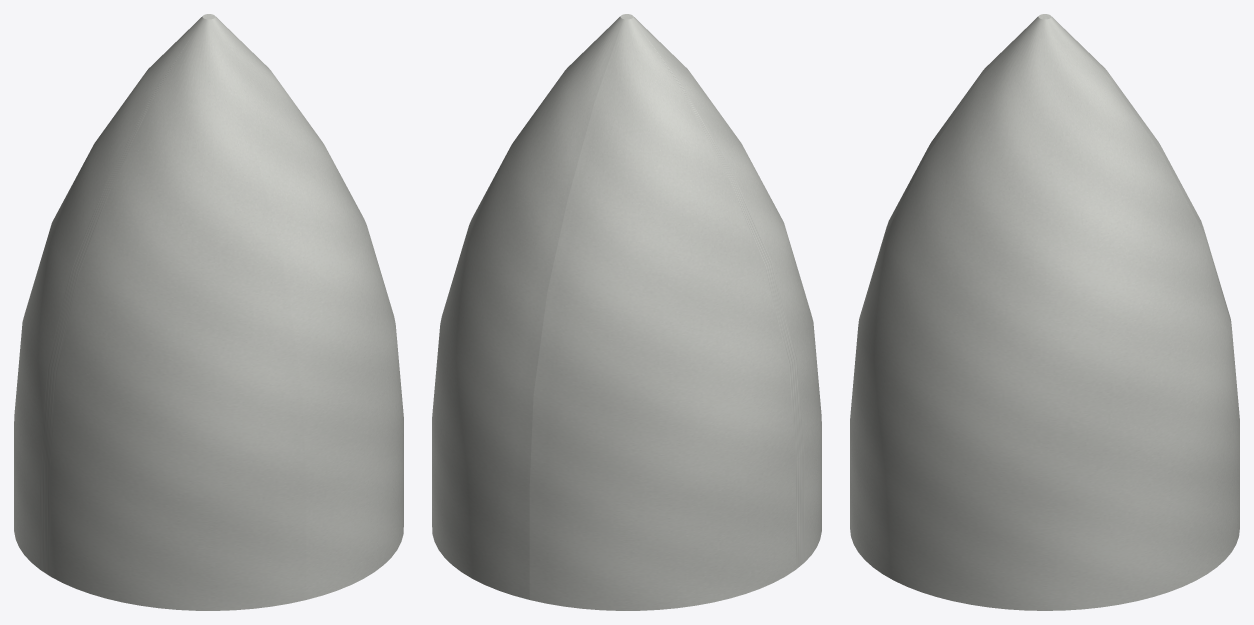
Rendered from fairing_small.glb.
The picture shows the model from 3 angles, left to right: view 1: azimuth 30°, elevation 25°; view 2: azimuth 150°, elevation 25°; view 3: azimuth 270°, elevation 25°; orthographic projection.
Visible parts, largest first — view 1: Fairing_Shell_Left.008, Fairing_Shell_Right.008; view 2: Fairing_Shell_Left.008, Fairing_Shell_Right.008; view 3: Fairing_Shell_Right.008, Fairing_Shell_Left.008.
Part boxes in pixels (bbox=[...]): Fairing_Shell_Left.008: bbox=[14, 14, 306, 610]; Fairing_Shell_Right.008: bbox=[206, 14, 403, 599]; Fairing_Shell_Left.008: bbox=[529, 14, 821, 610]; Fairing_Shell_Right.008: bbox=[432, 14, 629, 599]; Fairing_Shell_Right.008: bbox=[850, 16, 1239, 610]; Fairing_Shell_Left.008: bbox=[858, 14, 1231, 325].
Size of the model in its own units: 1.8 by 2.61 by 1.8.
Materials: 2 (1 with a texture image).
